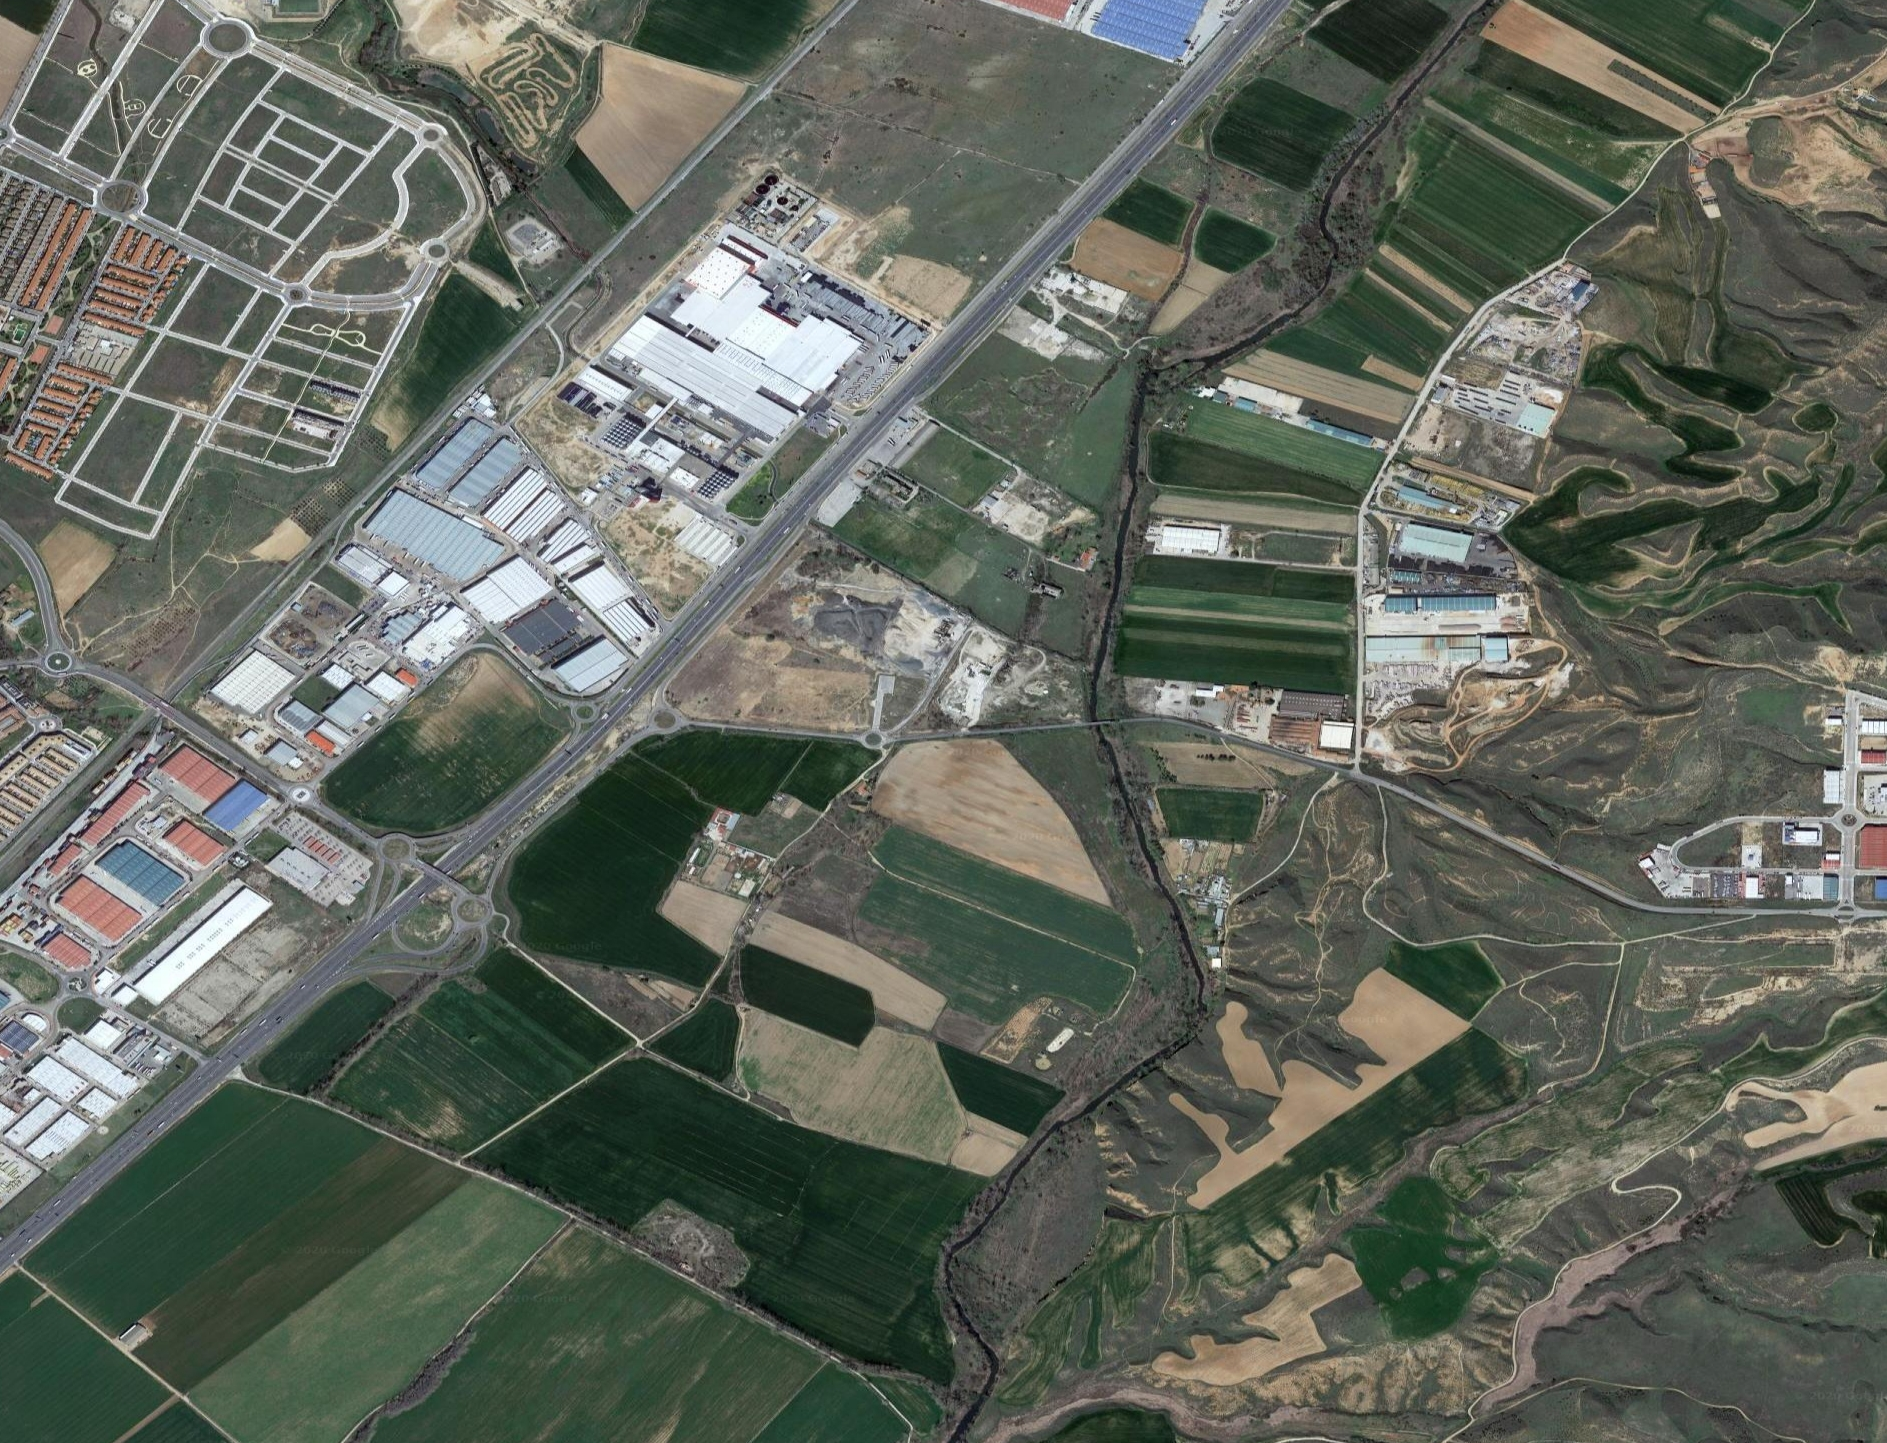industrial: (2, 623, 405, 1117), (405, 239, 875, 641)
motorway: (2, 829, 546, 1299), (427, 368, 972, 838), (828, 2, 1396, 379)
